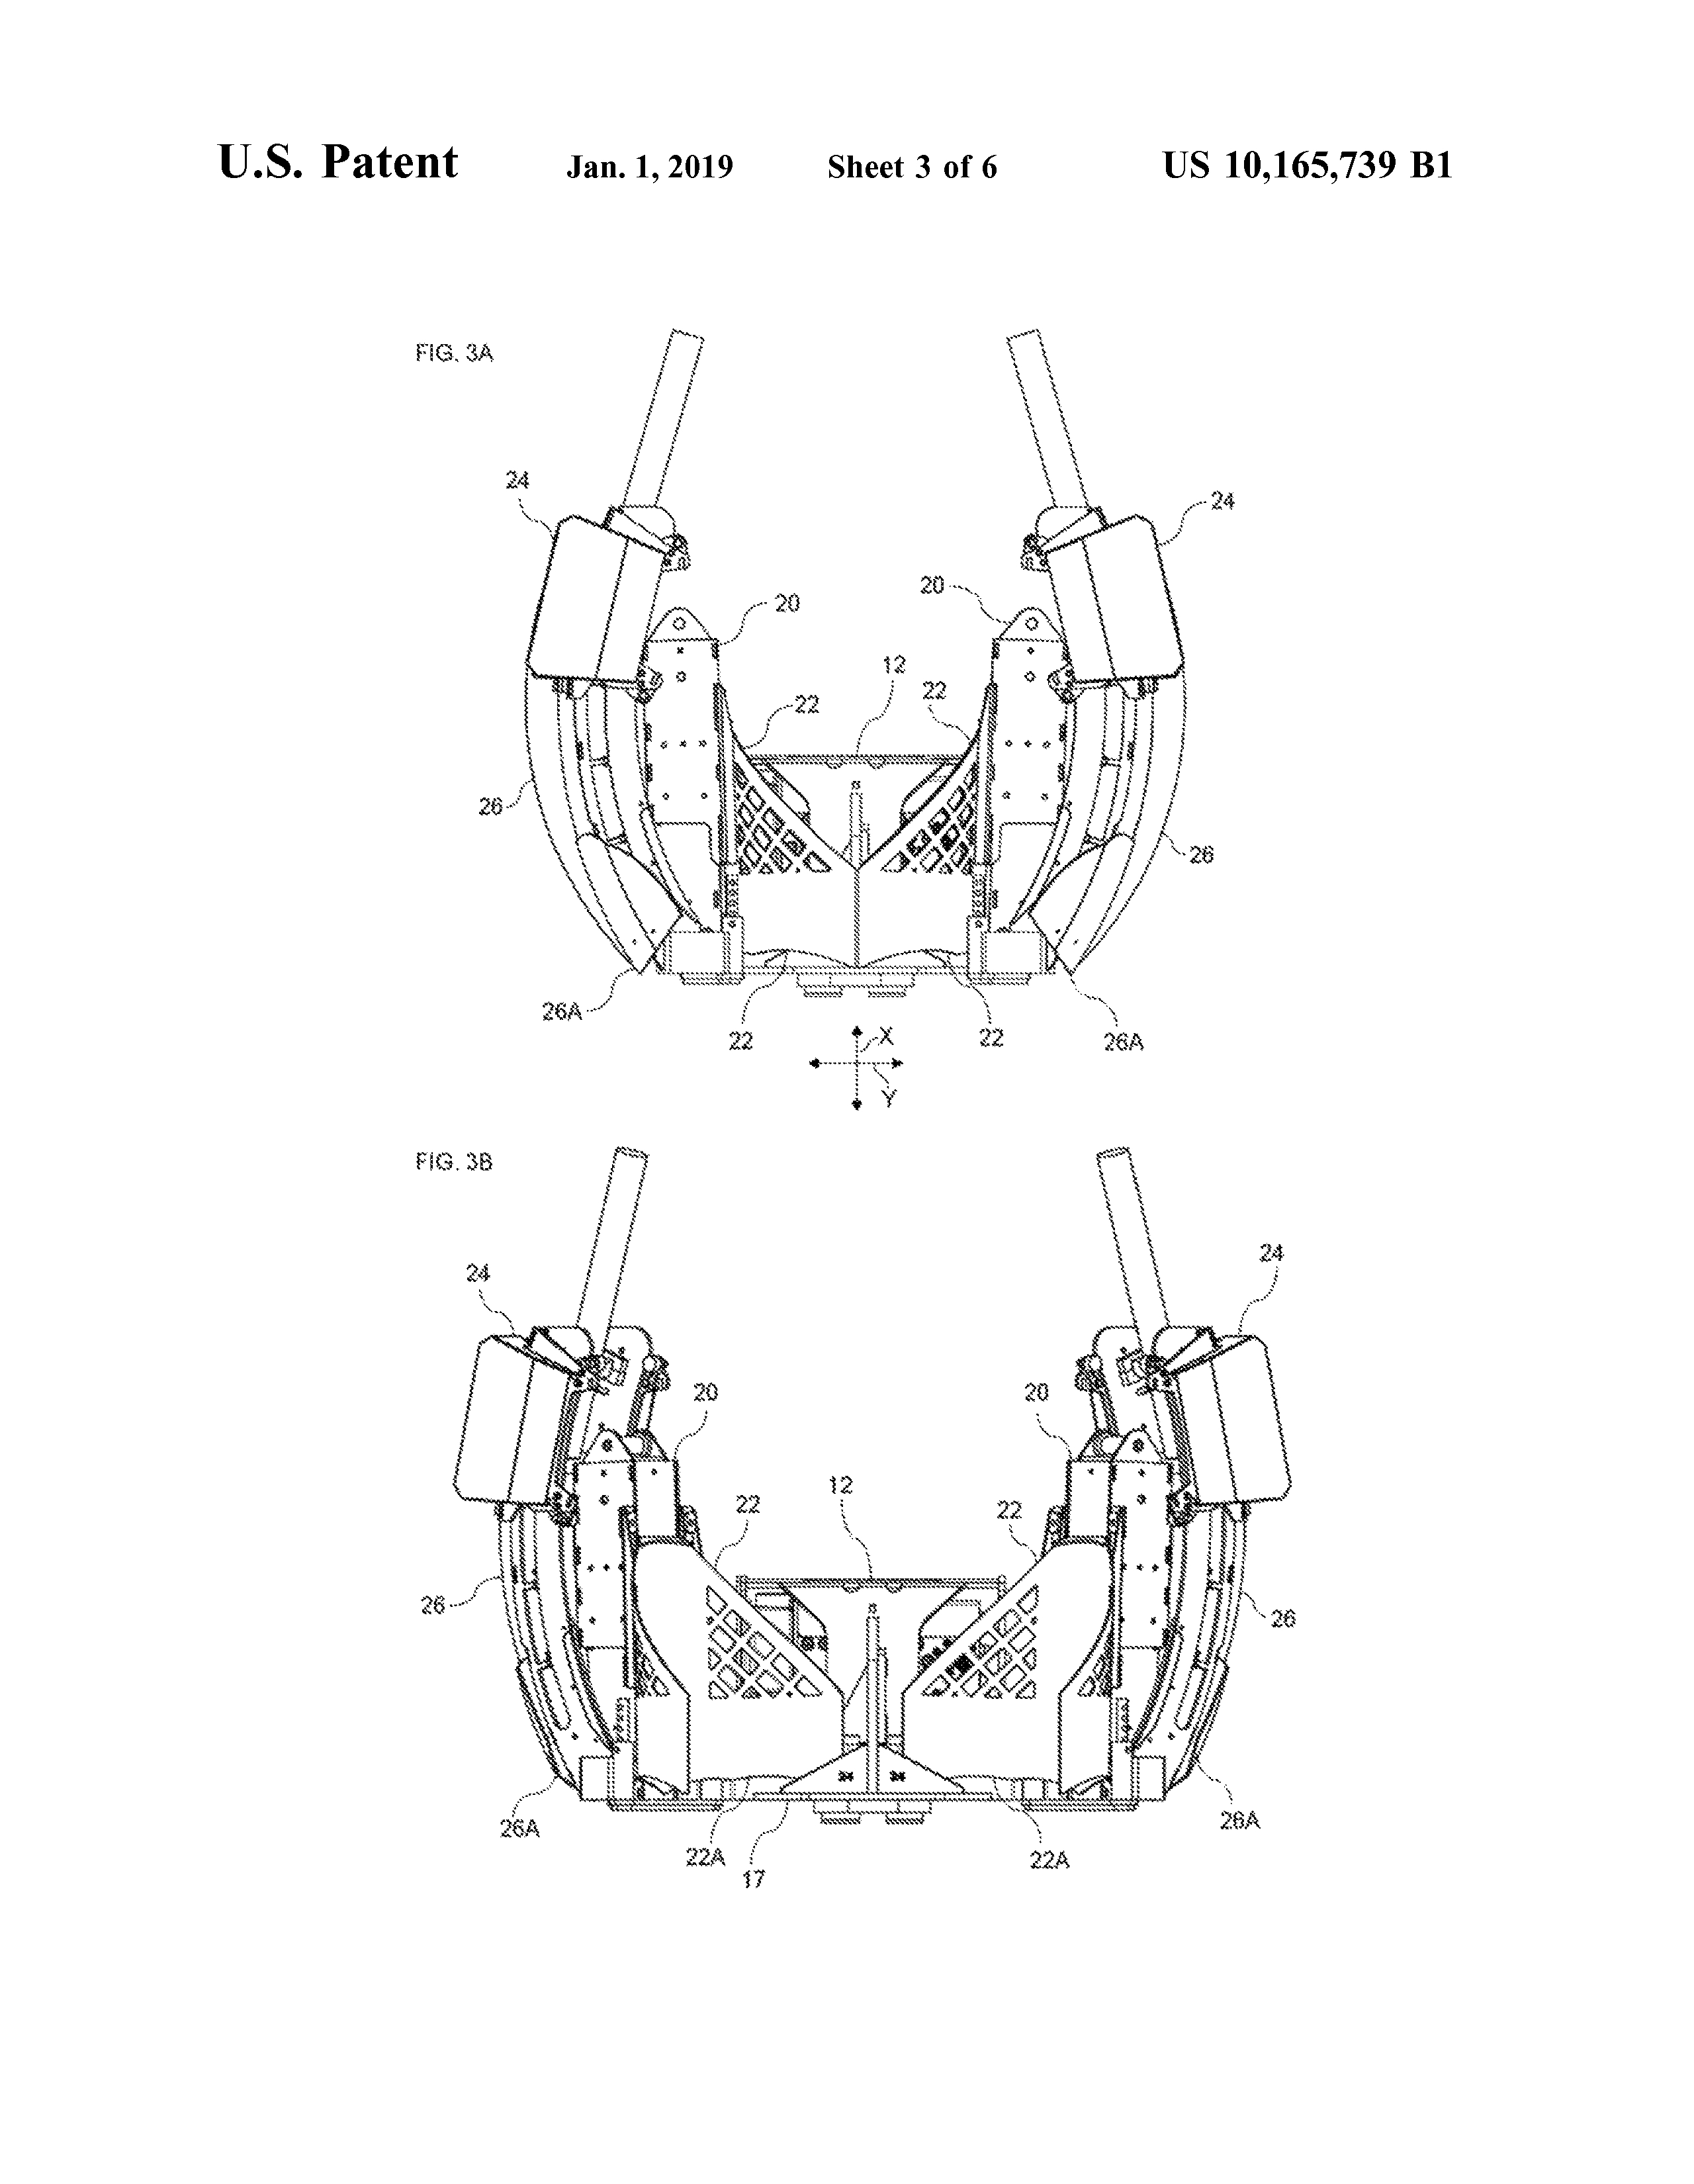patent image: (385, 287, 1281, 1119), (393, 1136, 1328, 1919)
